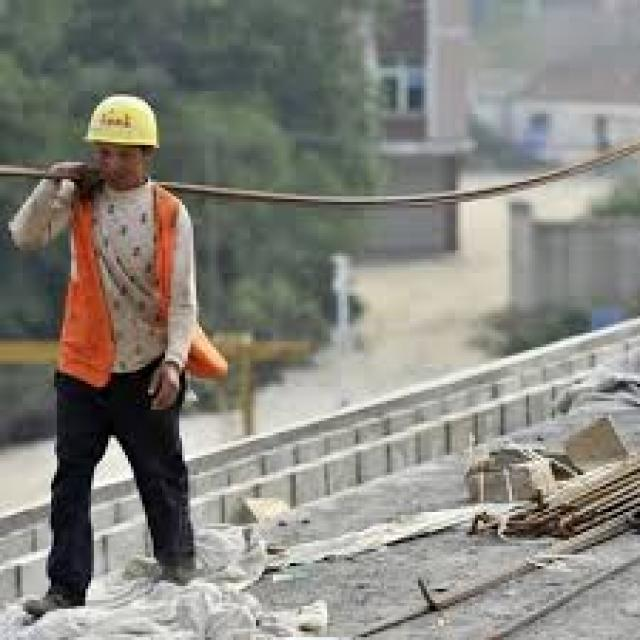Reflective-Jacket: (31, 173, 208, 410)
Safety-Helmet: (74, 85, 176, 162)
